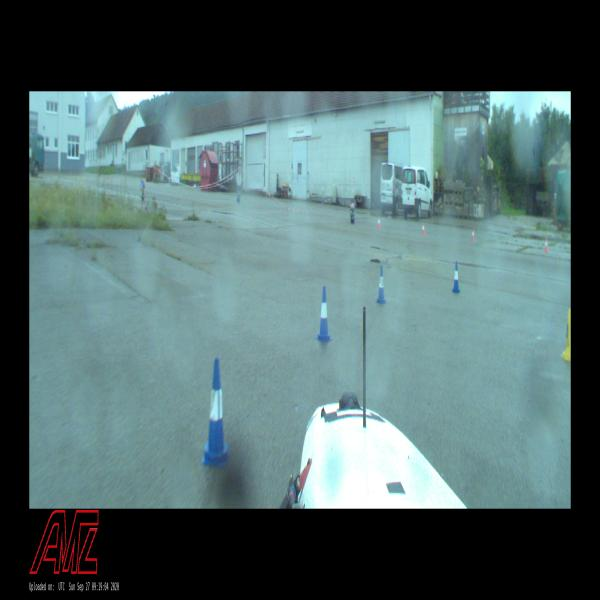blue_cone: (201, 357, 230, 465), (316, 286, 332, 341), (376, 265, 386, 304), (452, 261, 460, 292)
orange_cone: (544, 237, 548, 253), (471, 228, 475, 242), (377, 217, 381, 229), (422, 222, 425, 235)
yellow_cone: (560, 308, 570, 360)
